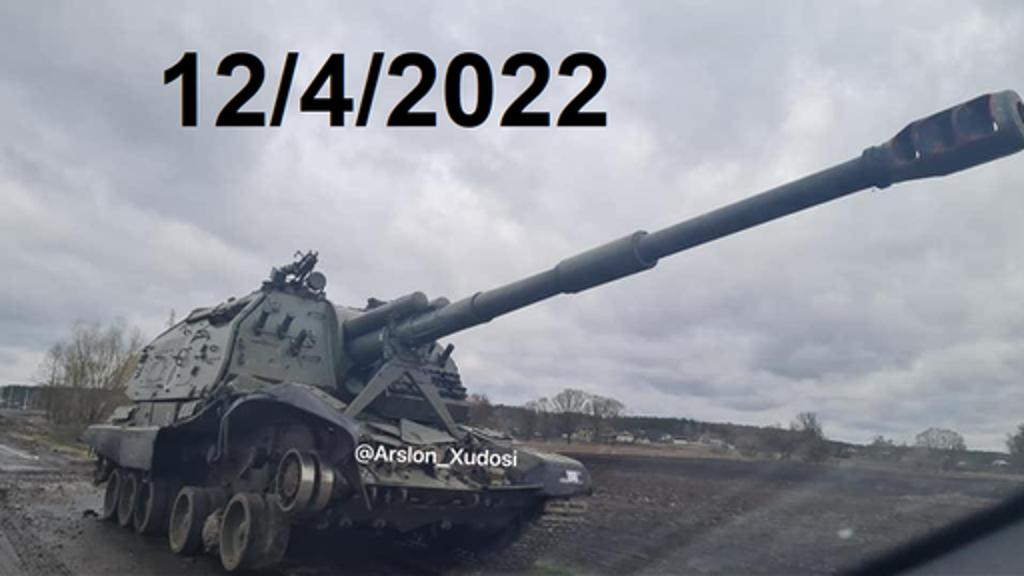ART: (80, 86, 1020, 572)
